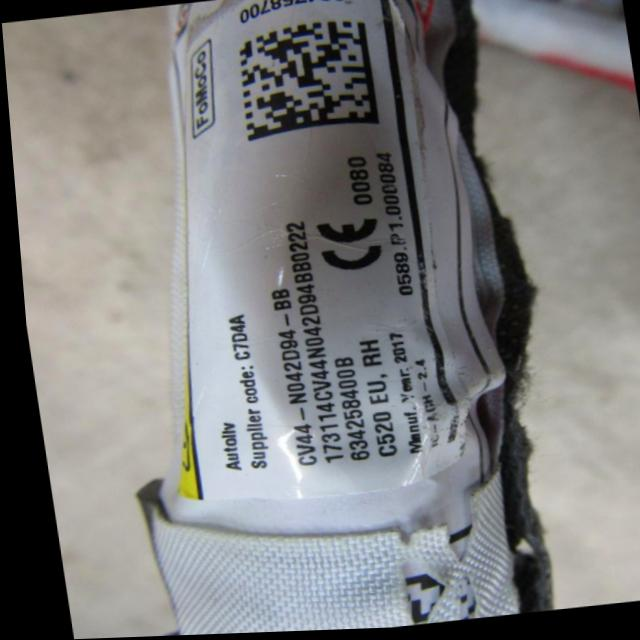datamatrix: (231, 19, 379, 142)
